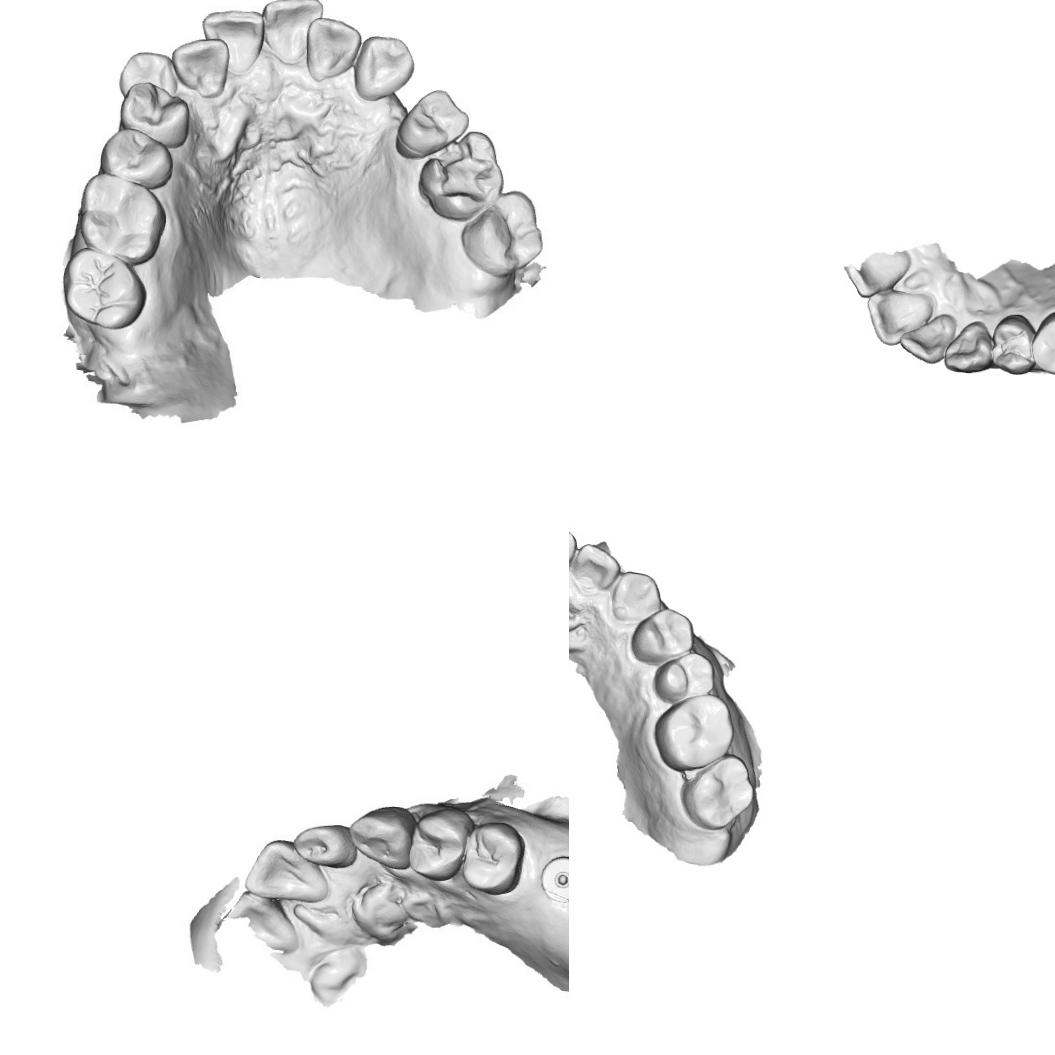canine: (352, 32, 416, 102), (350, 803, 416, 870), (116, 49, 181, 105), (610, 568, 664, 626), (942, 318, 994, 375)
implant: (540, 852, 569, 908)
incisor: (246, 839, 330, 909), (200, 9, 267, 76), (864, 285, 936, 347), (260, 0, 323, 65), (303, 16, 362, 84), (170, 36, 231, 101), (842, 247, 911, 299), (897, 311, 956, 366), (570, 540, 622, 596), (293, 824, 349, 868)
inlay: (429, 132, 494, 206)
molar: (77, 172, 168, 266), (458, 188, 546, 282), (61, 249, 150, 330), (650, 692, 736, 774), (679, 751, 757, 832)
premolar: (394, 85, 472, 161), (453, 820, 530, 894), (116, 80, 192, 150), (98, 126, 174, 191), (408, 807, 472, 883), (628, 604, 696, 666), (652, 650, 717, 704), (990, 312, 1039, 377), (1030, 308, 1055, 377)
